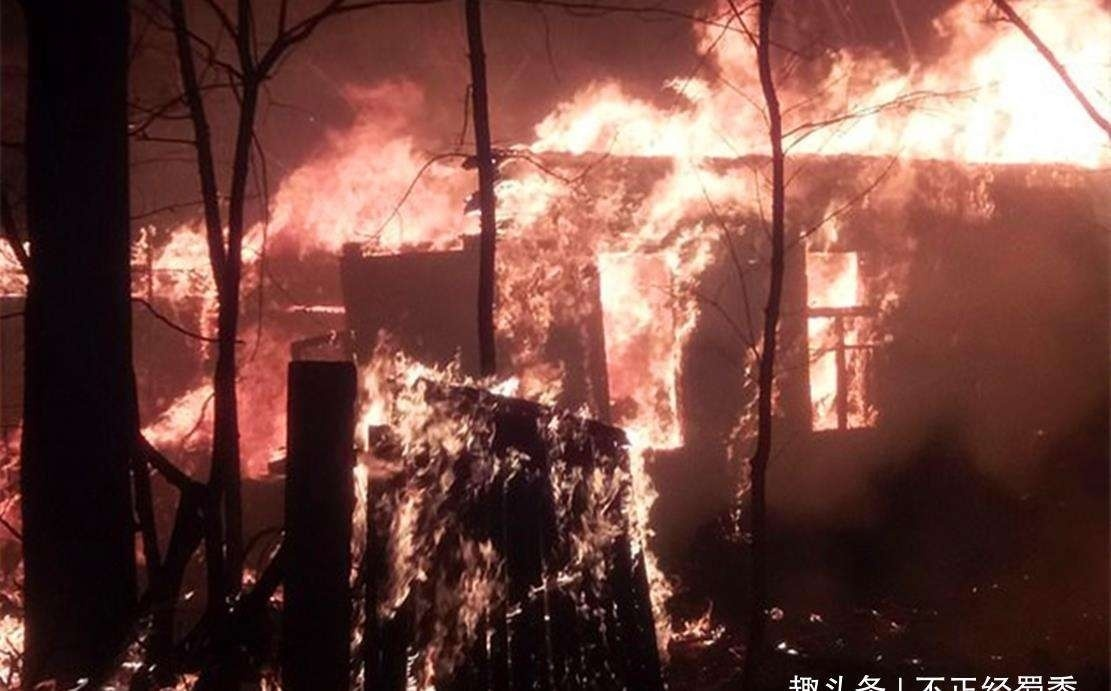fire: (110, 72, 956, 660)
